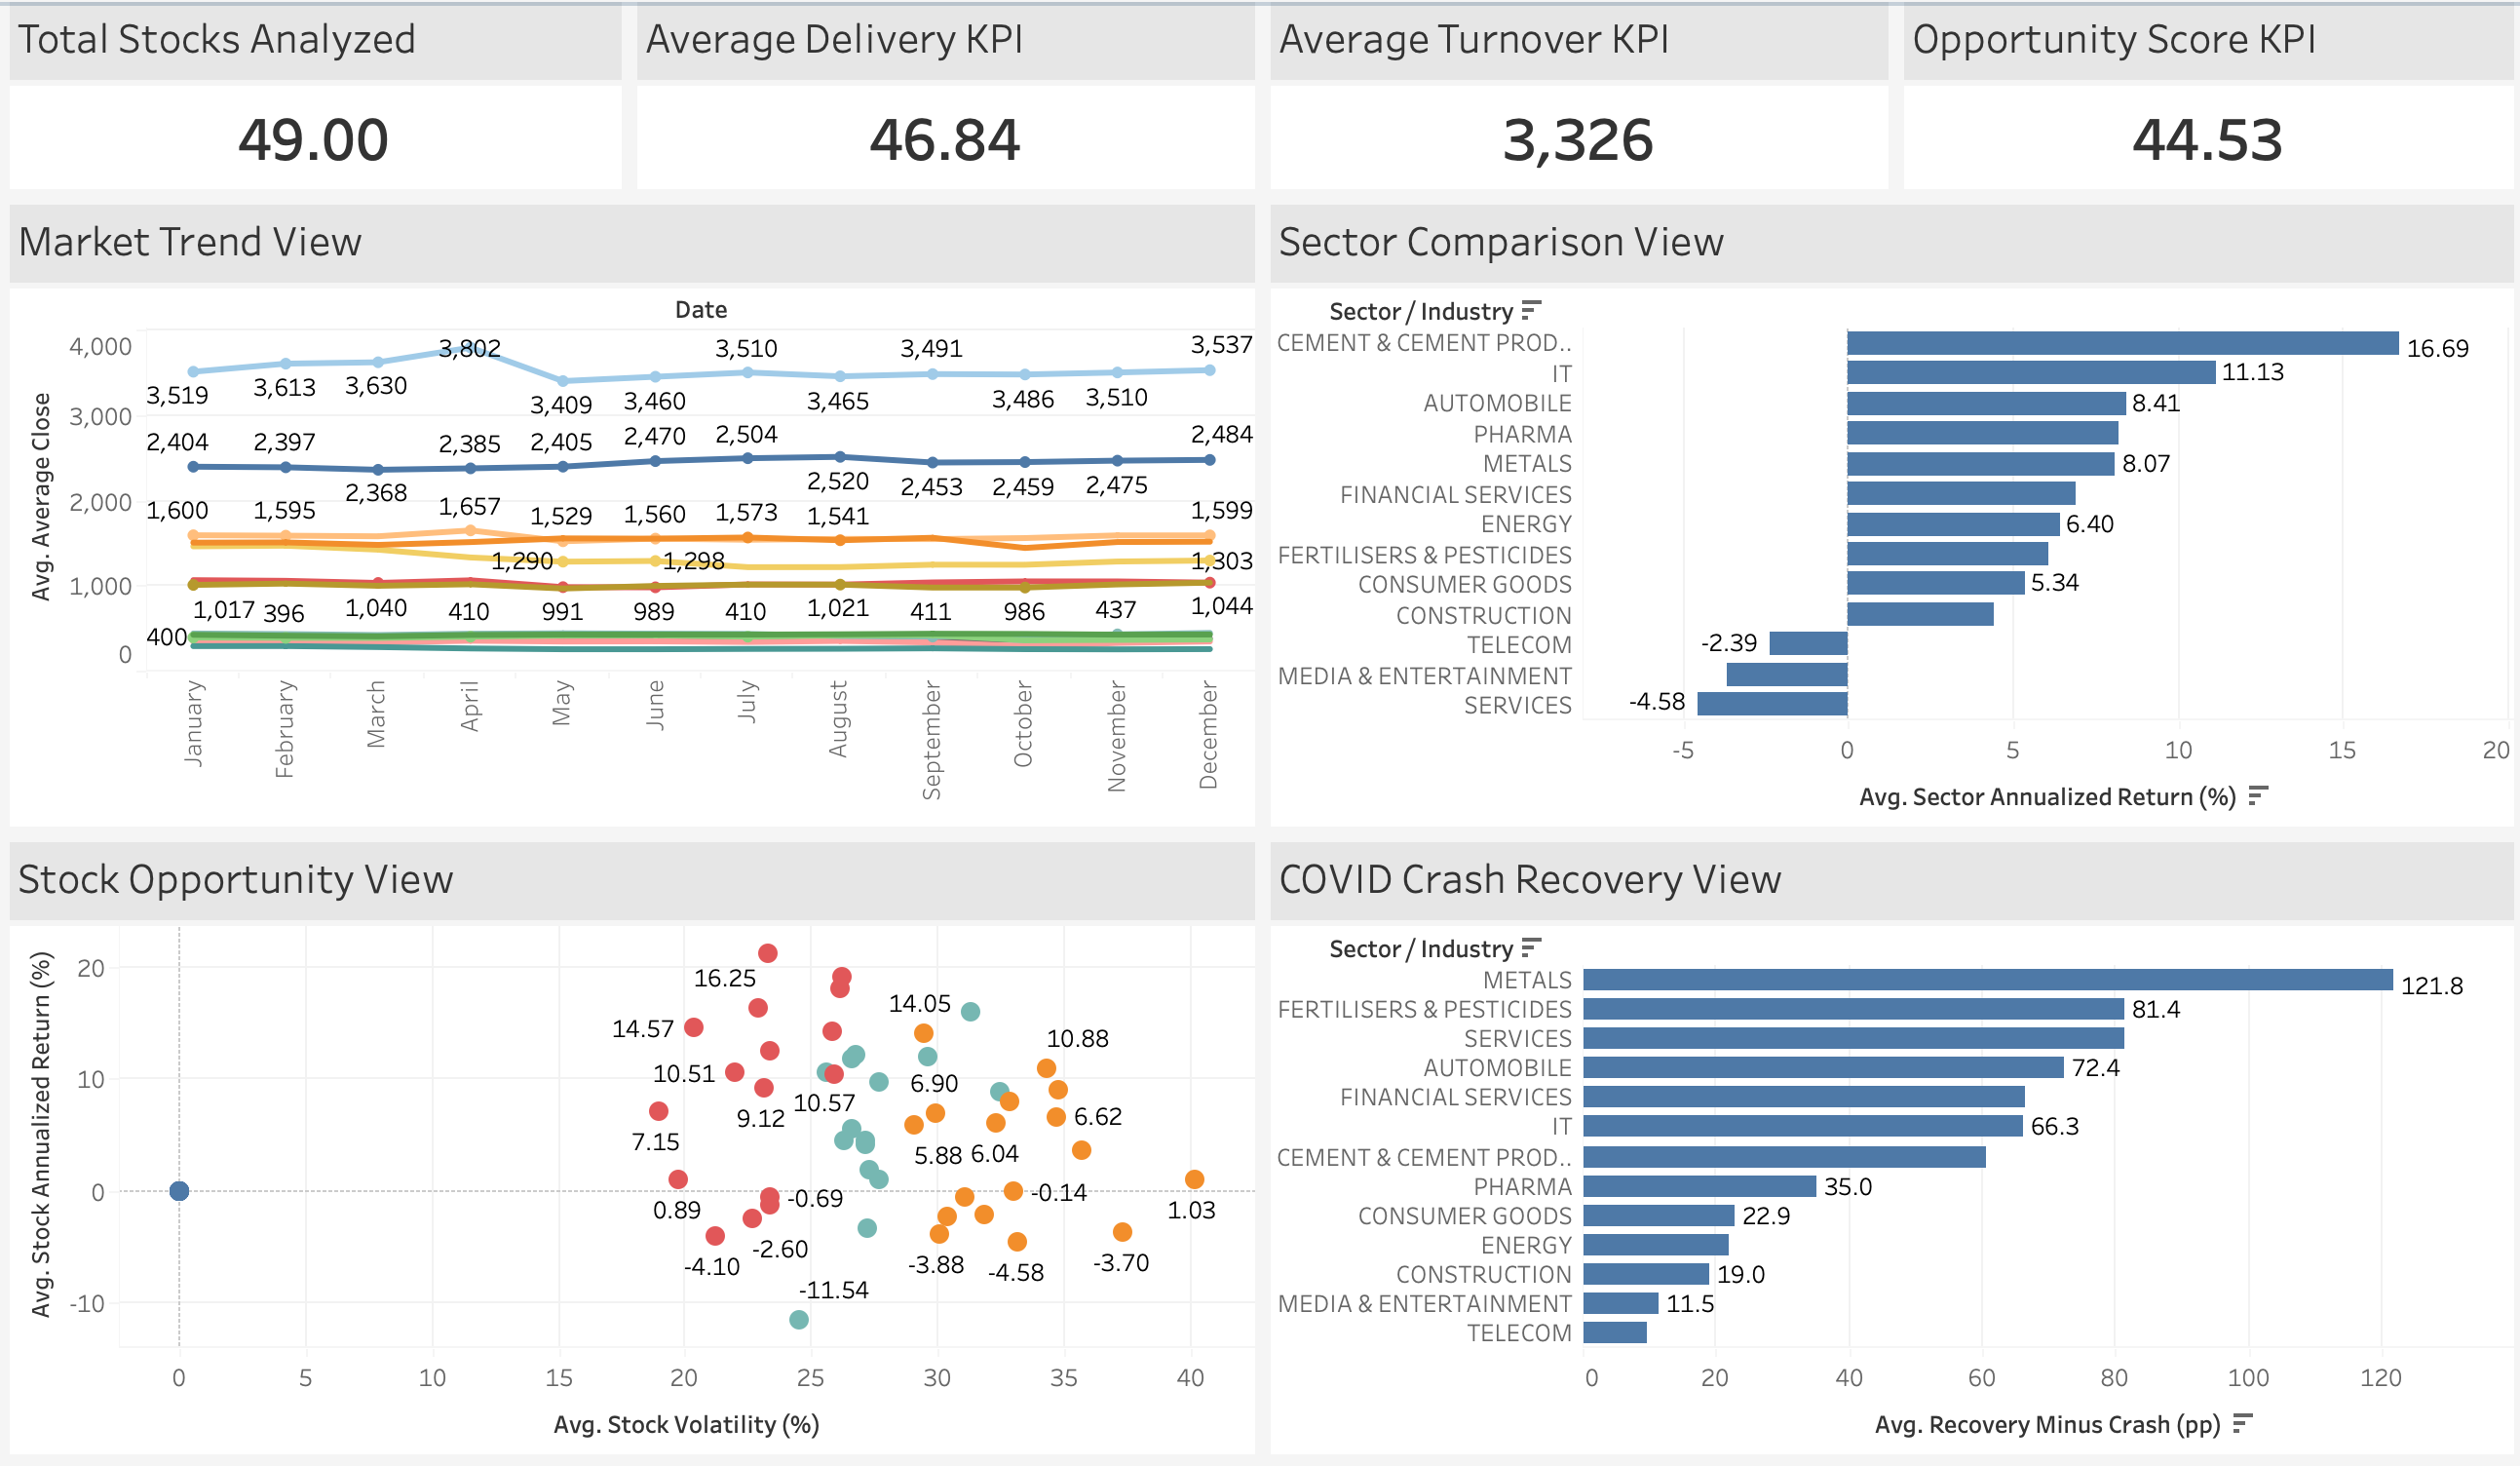

What the dashboard file says about the page in this screenshot:
{"tool":"tableau","page":{"name":"NIFTY-50 Sectoral Performance & Risk Intelligence Dashboard","canvas":[1000,1000],"units":"permille","ordinal":0},"visuals":[{"type":"text","box":[6.7,0,986.7,87.5]},{"type":"filter","title":"Market Trend View","param":"[federated.0ahyg8e1xelf3914bag3r0yukuro].[none:Segment:nk]","box":[6.7,87.5,197.3,37.5]},{"type":"filter","title":"Market Trend View","param":"[federated.0ahyg8e1xelf3914bag3r0yukuro].[none:Recommendation Action:nk]","box":[204,87.5,197.3,37.5]},{"type":"filter","title":"Market Trend View","param":"[federated.0ahyg8e1xelf3914bag3r0yukuro].[none:Date:ok]","box":[401.3,87.5,197.3,37.5]},{"type":"filter","title":"Market Trend View","param":"[federated.0ahyg8e1xelf3914bag3r0yukuro].[none:Sector / Industry:nk]","box":[598.7,87.5,197.3,37.5]},{"type":"filter","title":"Market Trend View","param":"[federated.0ahyg8e1xelf3914bag3r0yukuro].[none:Risk Bucket:nk]","box":[796,87.5,197.3,37.5]},{"type":"worksheet","title":"Total Stocks Analyzed","mark":"Text","box":[0,125,250,125]},{"type":"worksheet","title":"Average Delivery KPI","mark":"Text","box":[250,125,250,125]},{"type":"worksheet","title":"Average Turnover KPI","mark":"Text","box":[500,125,250,125]},{"type":"worksheet","title":"Opportunity Score KPI","mark":"Text","box":[750,125,250,125]},{"type":"worksheet","title":"Market Trend View","mark":"Line","rows":["Average Close"],"cols":["Date"],"box":[0,250,500,375]},{"type":"worksheet","title":"Sector Comparison View","mark":"Bar","rows":["Sector / Industry"],"cols":["Sector Annualized Return (%)"],"box":[500,250,500,375]},{"type":"worksheet","title":"Stock Opportunity View","mark":"Circle","rows":["Stock Annualized Return (%)"],"cols":["Stock Volatility (%)"],"box":[0,625,500,375]},{"type":"worksheet","title":"COVID Crash Recovery View","mark":"Bar","rows":["Sector / Industry"],"cols":["Recovery Minus Crash (pp)"],"box":[500,625,500,375]}]}

Visuals, with their boxes on the dashboard's canvas, which has no fixed pixel size, in thousandths of its width and height (x1, y1, x2, y2). These are canvas units, not pixel positions in the 2520x1466 screenshot, which may show the page scaled, cropped or inside an application window:
text: region(7, 0, 993, 88)
"Market Trend View" filter: region(7, 88, 204, 125)
"Market Trend View" filter: region(204, 88, 401, 125)
"Market Trend View" filter: region(401, 88, 599, 125)
"Market Trend View" filter: region(599, 88, 796, 125)
"Market Trend View" filter: region(796, 88, 993, 125)
"Total Stocks Analyzed" worksheet (Text marks): region(0, 125, 250, 250)
"Average Delivery KPI" worksheet (Text marks): region(250, 125, 500, 250)
"Average Turnover KPI" worksheet (Text marks): region(500, 125, 750, 250)
"Opportunity Score KPI" worksheet (Text marks): region(750, 125, 1000, 250)
"Market Trend View" worksheet (Line marks): region(0, 250, 500, 625)
"Sector Comparison View" worksheet (Bar marks): region(500, 250, 1000, 625)
"Stock Opportunity View" worksheet (Circle marks): region(0, 625, 500, 1000)
"COVID Crash Recovery View" worksheet (Bar marks): region(500, 625, 1000, 1000)
